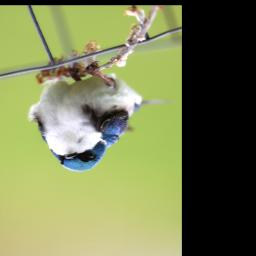Swallow: (27, 60, 175, 172)
